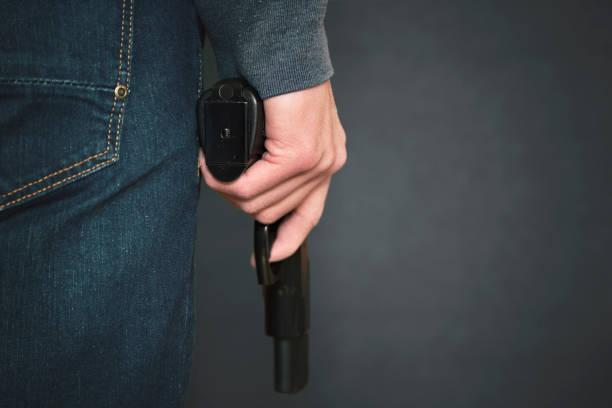weapon: (196, 74, 316, 396)
